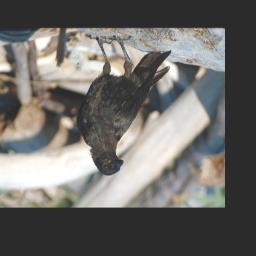Crow: (75, 34, 173, 177)
